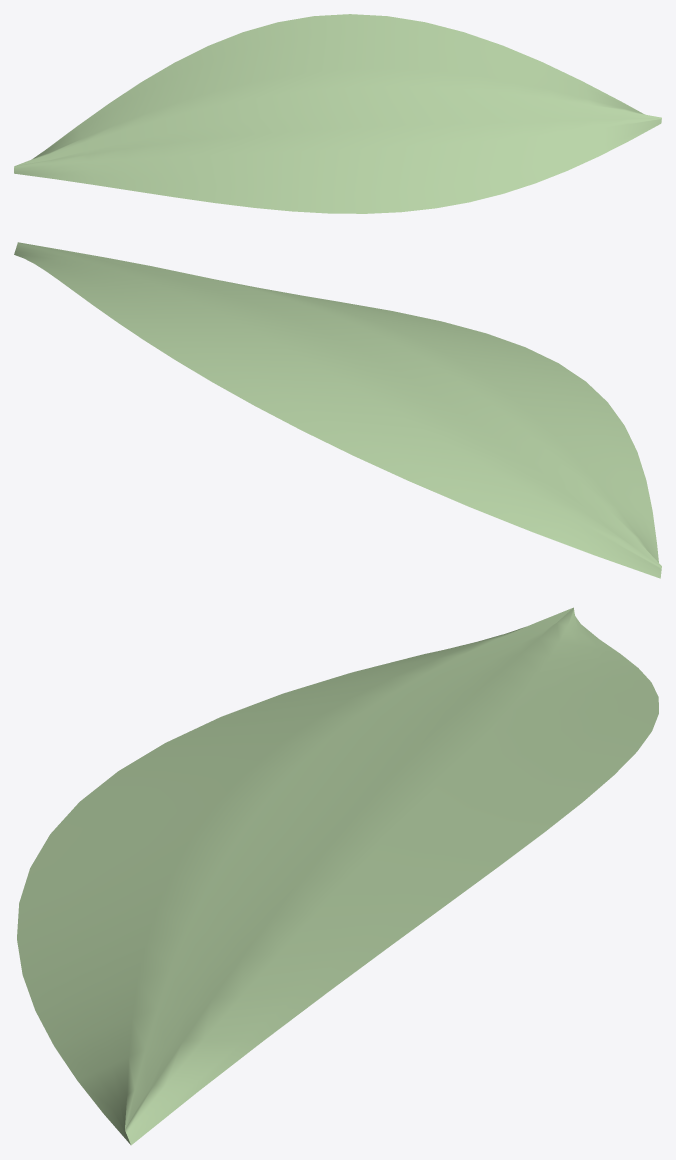
Rendered from bio.glb.
3 views of the same model, one above another, from view 1: azimuth 30°, elevation 25°; view 2: azimuth 150°, elevation 25°; view 3: azimuth 270°, elevation 25° (orthographic). The views are drawn at different scales.
Parts seen in each view (by area): view 1: BioLeaf; view 2: BioLeaf; view 3: BioLeaf.
Part boxes in pixels (bbox=[...]): BioLeaf: bbox=[14, 14, 661, 213]; BioLeaf: bbox=[14, 242, 661, 578]; BioLeaf: bbox=[17, 607, 658, 1145].
Size of the model in its own units: 1.7 by 0.2442 by 0.8786.
